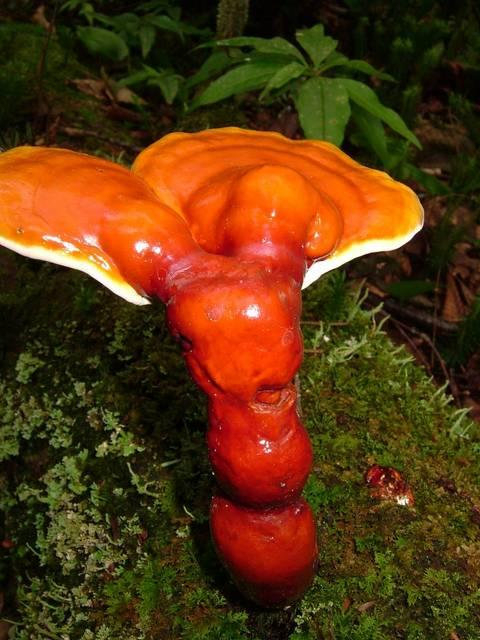Non-edible Mushroom: (0, 124, 425, 609)
